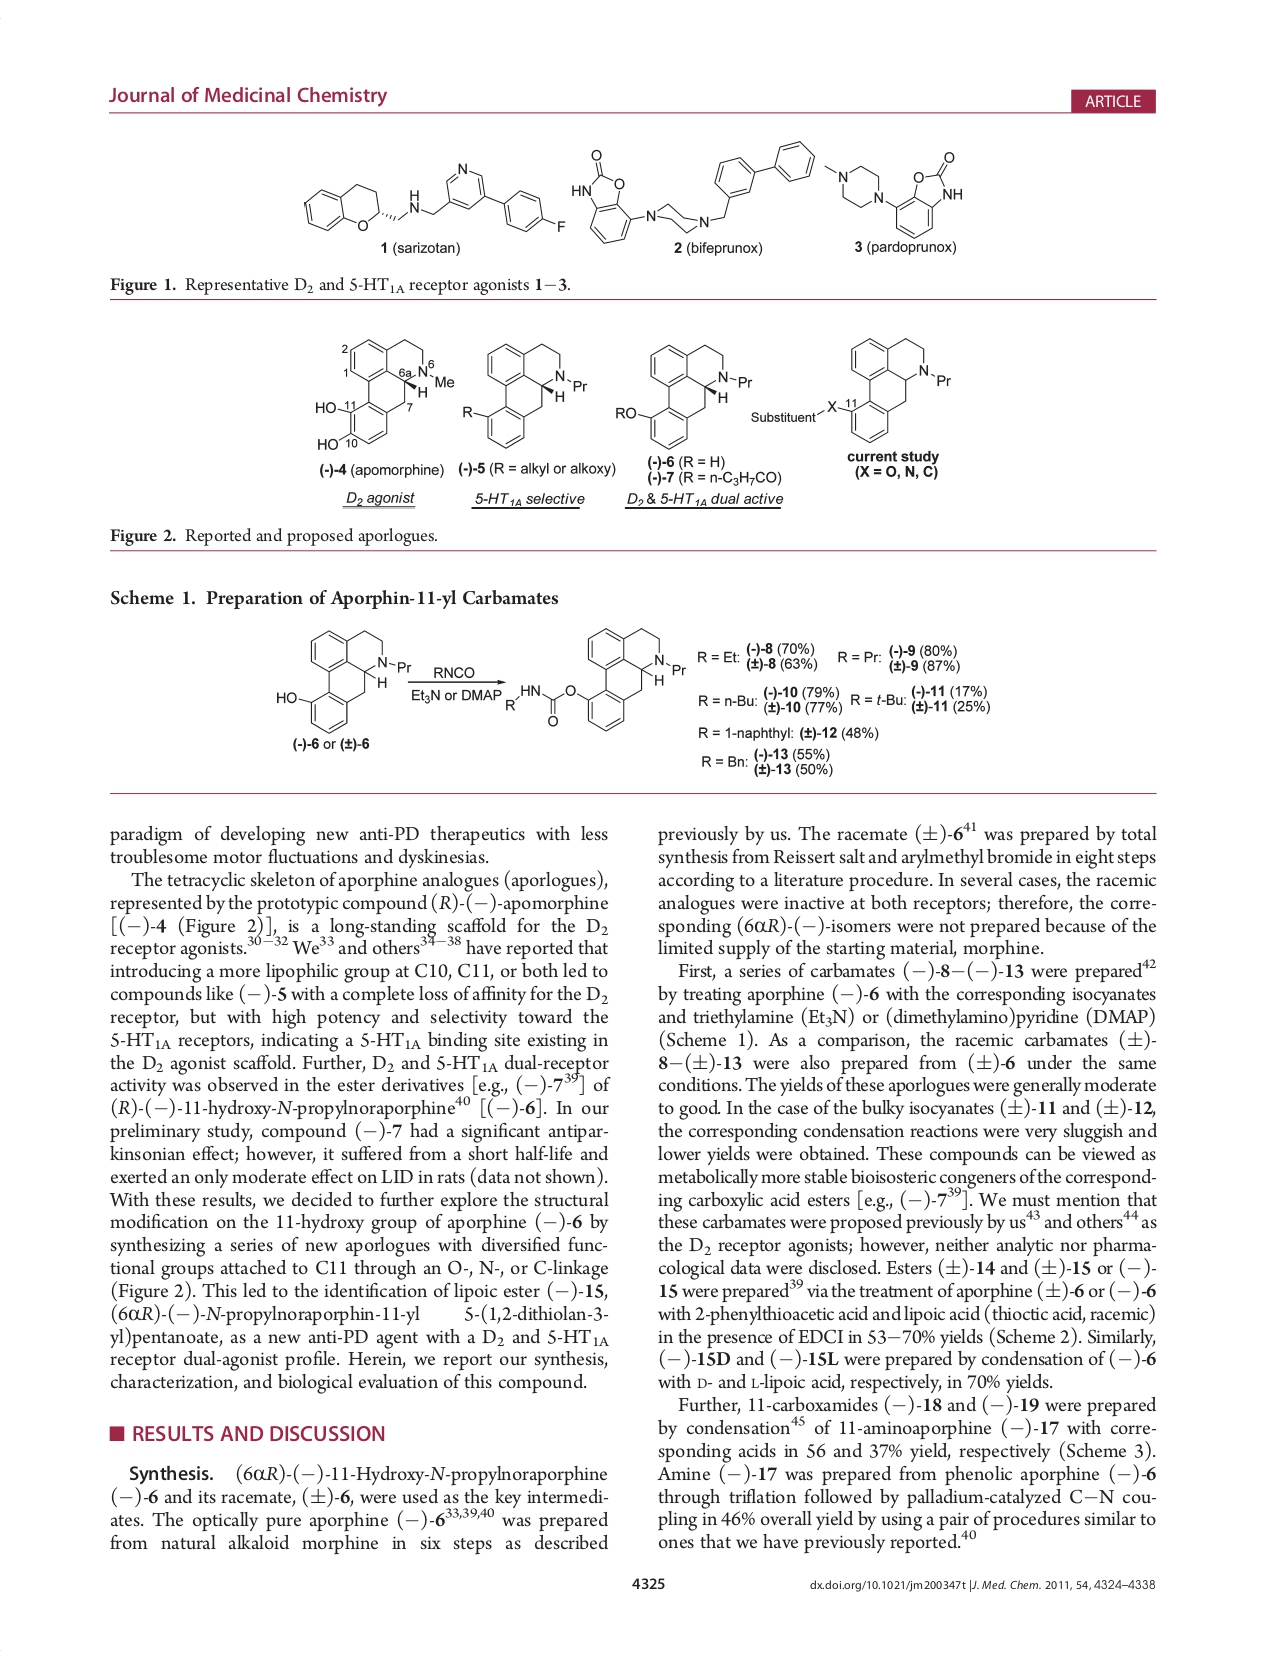exist_molecular: (567, 140, 965, 243), (749, 332, 953, 446), (301, 160, 567, 235), (505, 626, 689, 733), (311, 336, 457, 453), (612, 342, 753, 452), (273, 628, 414, 735), (461, 342, 589, 451)
